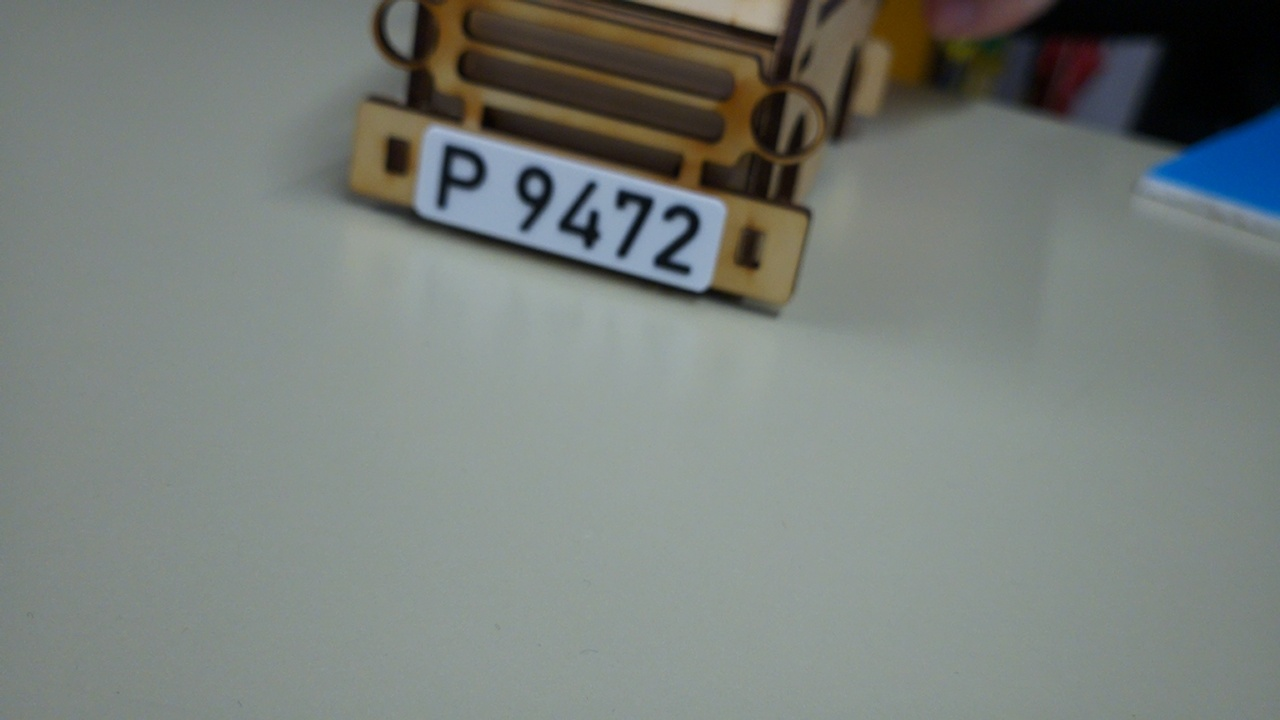license_plate: (412, 123, 729, 296)
